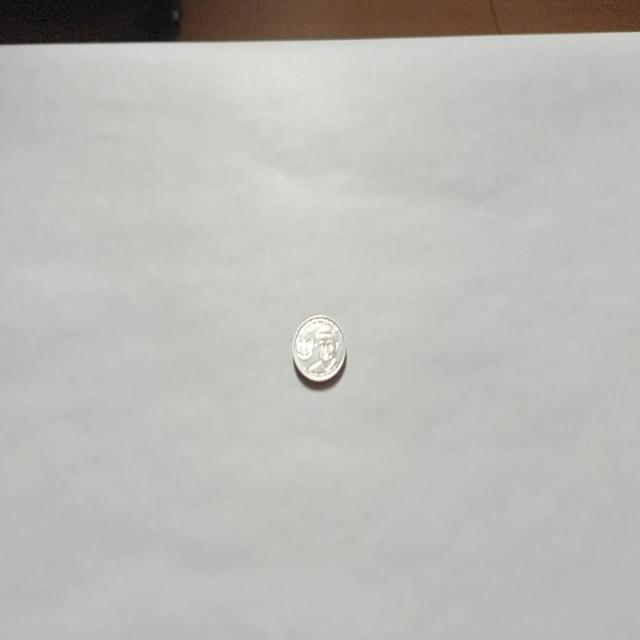seribu rupiah koin: (291, 313, 346, 384)
